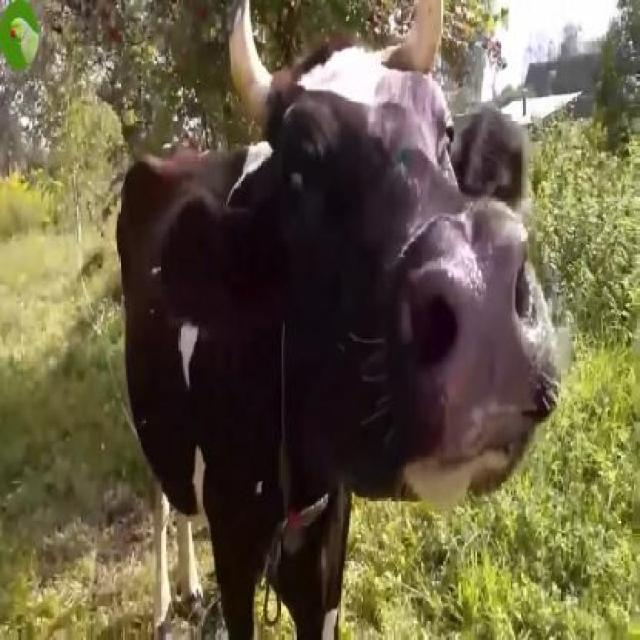Cow: (113, 0, 561, 638)
